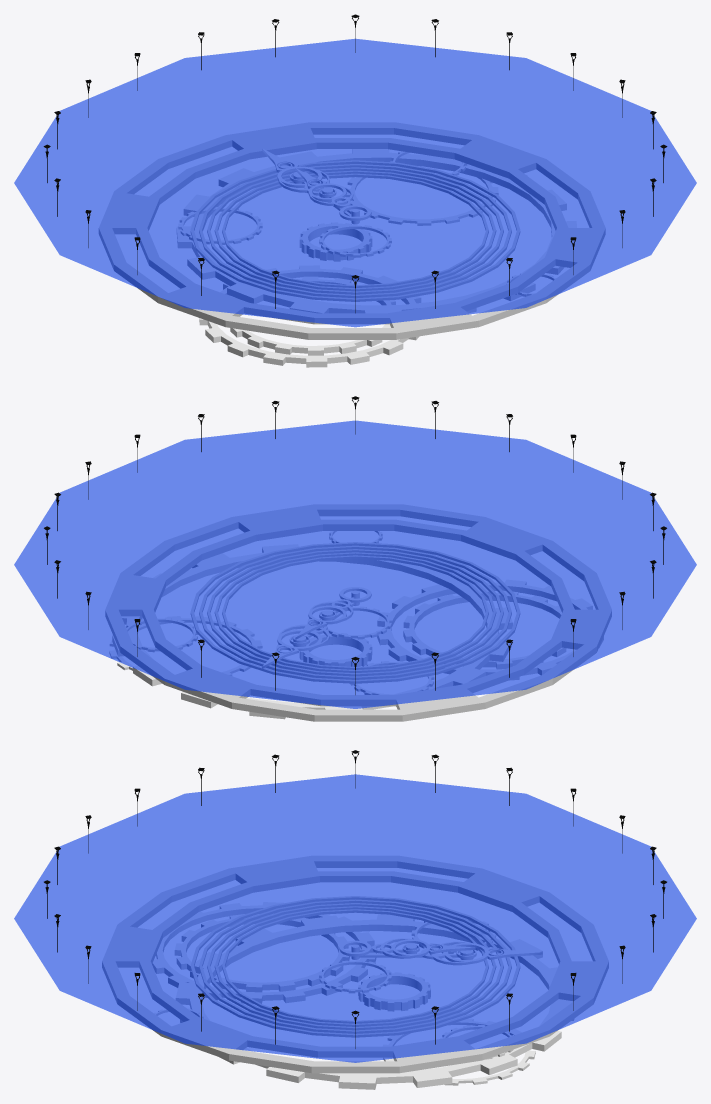
Rendered from stage02.FBX.
The picture shows the model from 3 angles, top to bottom: view 1: azimuth 30°, elevation 25°; view 2: azimuth 150°, elevation 25°; view 3: azimuth 270°, elevation 25°; orthographic projection.
Visible parts, largest first — view 1: Cylinder001, Object004, Tube020, Tube017, Tube005, Tube004, Tube003, Tube002, Tube001, Tube018, Tube022, Tube014 (+4 smaller); view 2: Cylinder001, Object004, Tube020, Tube005, Tube004, Tube017, Tube003, Tube002, Tube001, Tube018, Tube022, Tube012 (+2 smaller); view 3: Cylinder001, Object004, Tube020, Tube017, Tube005, Tube004, Tube003, Tube018, Tube002, Tube001, Tube022, Tube012 (+3 smaller).
Part boxes in pixels (x1=…): Cylinder001: x1=14, y1=39, x2=696, y2=327; Object004: x1=99, y1=122, x2=605, y2=339; Tube020: x1=177, y1=149, x2=576, y2=312; Tube017: x1=199, y1=265, x2=420, y2=367; Tube005: x1=191, y1=160, x2=519, y2=301; Tube004: x1=199, y1=164, x2=511, y2=297; Tube003: x1=207, y1=167, x2=503, y2=294; Tube002: x1=215, y1=171, x2=495, y2=290; Tube001: x1=222, y1=174, x2=488, y2=287; Tube018: x1=230, y1=277, x2=395, y2=355; Tube022: x1=300, y1=222, x2=371, y2=261; Tube014: x1=346, y1=177, x2=498, y2=225; Cylinder001: x1=14, y1=420, x2=696, y2=708; Object004: x1=105, y1=504, x2=611, y2=721; Tube020: x1=112, y1=544, x2=512, y2=719; Tube005: x1=191, y1=542, x2=519, y2=683; Tube004: x1=199, y1=546, x2=511, y2=679; Tube017: x1=377, y1=580, x2=603, y2=679; Tube003: x1=207, y1=549, x2=503, y2=676; Tube002: x1=215, y1=552, x2=495, y2=672; Tube001: x1=222, y1=555, x2=488, y2=669; Tube018: x1=403, y1=591, x2=565, y2=669; Tube022: x1=300, y1=633, x2=371, y2=666; Tube012: x1=262, y1=603, x2=354, y2=668; Cylinder001: x1=14, y1=774, x2=696, y2=1062; Object004: x1=102, y1=856, x2=608, y2=1073; Tube020: x1=176, y1=914, x2=573, y2=1089; Tube017: x1=152, y1=902, x2=376, y2=1003; Tube005: x1=191, y1=896, x2=519, y2=1037; Tube004: x1=199, y1=899, x2=511, y2=1033; Tube003: x1=207, y1=903, x2=503, y2=1029; Tube018: x1=175, y1=914, x2=349, y2=991; Tube002: x1=215, y1=906, x2=495, y2=1026; Tube001: x1=222, y1=909, x2=488, y2=1023; Tube022: x1=358, y1=972, x2=430, y2=1011; Tube012: x1=359, y1=942, x2=542, y2=964.
Bounding box in the file's own units: 202 × 38.2 × 202.
